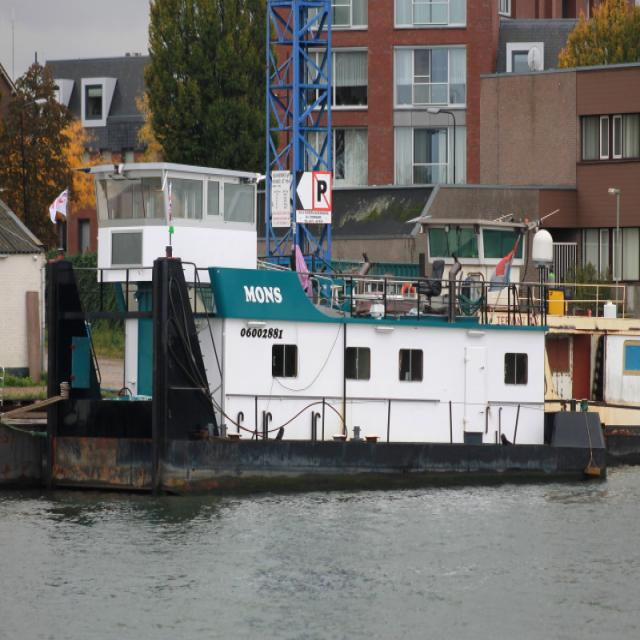tugboat: (42, 161, 611, 495)
